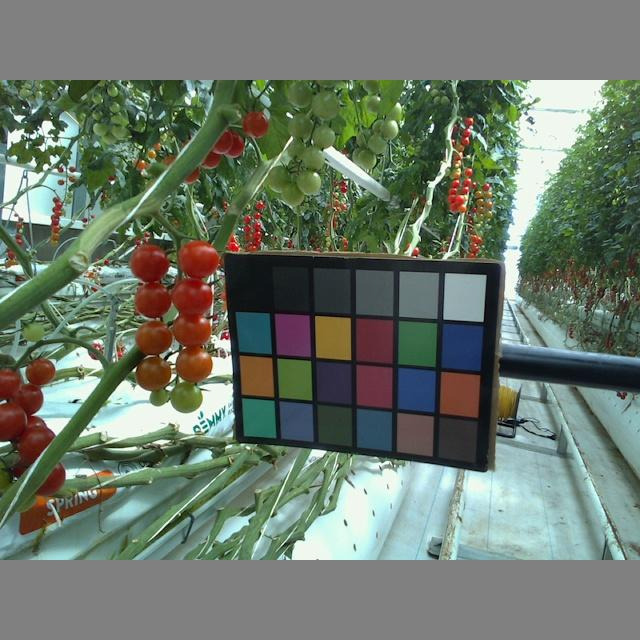green: (169, 383, 204, 412), (311, 92, 340, 122), (265, 164, 292, 192), (299, 144, 326, 171), (297, 169, 321, 196), (286, 112, 311, 137), (310, 126, 335, 151), (281, 179, 303, 207), (150, 386, 167, 405)
pink: (170, 278, 214, 317), (18, 424, 56, 469), (177, 239, 219, 277), (130, 245, 170, 281), (135, 319, 173, 355), (135, 282, 172, 318), (135, 357, 173, 390), (176, 347, 212, 381), (8, 382, 44, 415), (1, 400, 26, 443), (25, 357, 56, 385), (242, 109, 268, 138)
red: (210, 128, 233, 156), (221, 132, 246, 157)
